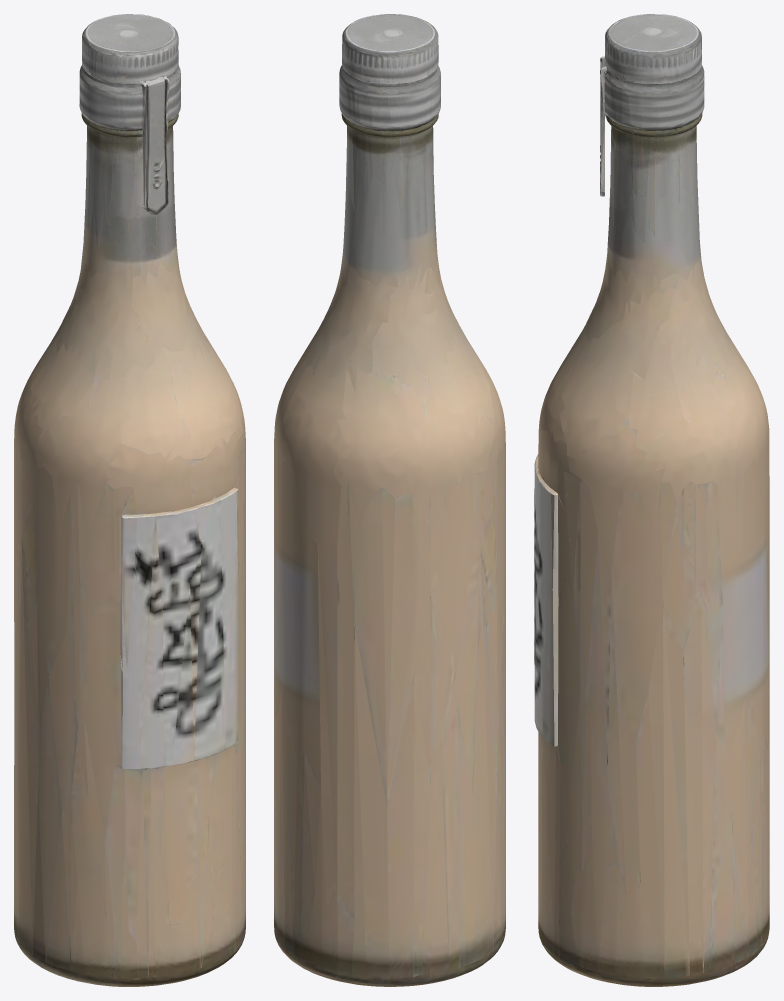
The model's file is bottle-orgeat.glb.
3 views of the same model, side by side, from view 1: azimuth 30°, elevation 25°; view 2: azimuth 150°, elevation 25°; view 3: azimuth 270°, elevation 25° (orthographic).
Size of the model in its own units: 0.4397 by 1.9 by 0.4453.
1 material, 1 textured.
